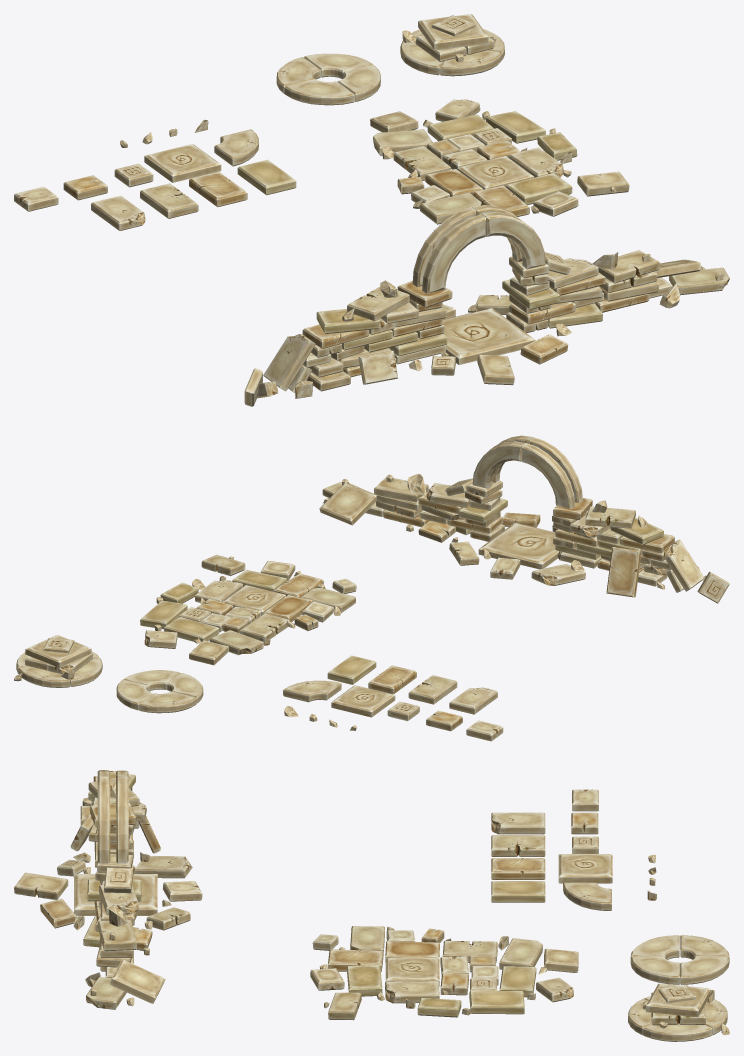
The model's file is doodad_brickspackage_mesh.fbx.
3 renders of one model, top to bottom at view 1: azimuth 30°, elevation 25°; view 2: azimuth 150°, elevation 25°; view 3: azimuth 270°, elevation 25°, orthographic. The views are drawn at different scales.
Visible parts, largest first — view 1: doodad_brick_structure_gate_mesh, doodad_brick_structure_floor1_mesh, doodad_brick_structure_circle2_mesh, doodad_brick_structure_circle1_mesh, doodad_brick_component_square_large_mesh, doodad_brick_component_rect1_mesh, doodad_brick_component_rect3_mesh, doodad_brick_component_rect2_mesh, doodad_brick_component_rect4_mesh, doodad_brick_component_turn_mesh, doodad_brick_component_rect_half1_mesh, doodad_brick_component_rect_half2_mesh (+1 smaller); view 2: doodad_brick_structure_gate_mesh, doodad_brick_structure_floor1_mesh, doodad_brick_structure_circle2_mesh, doodad_brick_structure_circle1_mesh, doodad_brick_component_square_large_mesh, doodad_brick_component_turn_mesh, doodad_brick_component_rect1_mesh, doodad_brick_component_rect3_mesh, doodad_brick_component_rect2_mesh, doodad_brick_component_rect4_mesh, doodad_brick_component_rect_half2_mesh, doodad_brick_component_rect_half1_mesh; view 3: doodad_brick_structure_gate_mesh, doodad_brick_structure_floor1_mesh, doodad_brick_structure_circle2_mesh, doodad_brick_structure_circle1_mesh, doodad_brick_component_square_large_mesh, doodad_brick_component_rect4_mesh, doodad_brick_component_rect1_mesh, doodad_brick_component_rect2_mesh, doodad_brick_component_rect3_mesh, doodad_brick_component_turn_mesh, doodad_brick_component_rect_half1_mesh, doodad_brick_component_rect_half2_mesh (+1 smaller).
Part boxes in pixels (x1=…): doodad_brick_structure_gate_mesh: x1=244, y1=205, x2=729, y2=406; doodad_brick_structure_floor1_mesh: x1=370, y1=99, x2=629, y2=224; doodad_brick_structure_circle2_mesh: x1=400, y1=14, x2=504, y2=76; doodad_brick_structure_circle1_mesh: x1=276, y1=53, x2=380, y2=105; doodad_brick_component_square_large_mesh: x1=144, y1=144, x2=221, y2=182; doodad_brick_component_rect1_mesh: x1=237, y1=159, x2=296, y2=195; doodad_brick_component_rect3_mesh: x1=140, y1=183, x2=198, y2=218; doodad_brick_component_rect2_mesh: x1=189, y1=171, x2=247, y2=207; doodad_brick_component_rect4_mesh: x1=91, y1=195, x2=145, y2=230; doodad_brick_component_turn_mesh: x1=214, y1=129, x2=258, y2=166; doodad_brick_component_rect_half1_mesh: x1=63, y1=175, x2=107, y2=200; doodad_brick_component_rect_half2_mesh: x1=14, y1=186, x2=58, y2=211; doodad_brick_structure_gate_mesh: x1=319, y1=435, x2=729, y2=603; doodad_brick_structure_floor1_mesh: x1=140, y1=554, x2=356, y2=665; doodad_brick_structure_circle2_mesh: x1=14, y1=635, x2=102, y2=687; doodad_brick_structure_circle1_mesh: x1=116, y1=670, x2=203, y2=713; doodad_brick_component_square_large_mesh: x1=331, y1=685, x2=395, y2=717; doodad_brick_component_turn_mesh: x1=283, y1=680, x2=341, y2=702; doodad_brick_component_rect1_mesh: x1=327, y1=655, x2=376, y2=684; doodad_brick_component_rect3_mesh: x1=408, y1=675, x2=457, y2=704; doodad_brick_component_rect2_mesh: x1=368, y1=665, x2=416, y2=694; doodad_brick_component_rect4_mesh: x1=449, y1=687, x2=497, y2=714; doodad_brick_component_rect_half2_mesh: x1=466, y1=720, x2=503, y2=741; doodad_brick_component_rect_half1_mesh: x1=426, y1=710, x2=462, y2=731; doodad_brick_structure_gate_mesh: x1=14, y1=770, x2=202, y2=1009; doodad_brick_structure_floor1_mesh: x1=310, y1=926, x2=578, y2=1020; doodad_brick_structure_circle2_mesh: x1=628, y1=983, x2=729, y2=1041; doodad_brick_structure_circle1_mesh: x1=630, y1=935, x2=729, y2=984; doodad_brick_component_square_large_mesh: x1=558, y1=854, x2=612, y2=883; doodad_brick_component_rect4_mesh: x1=491, y1=812, x2=545, y2=834; doodad_brick_component_rect1_mesh: x1=491, y1=881, x2=545, y2=902; doodad_brick_component_rect2_mesh: x1=491, y1=858, x2=545, y2=879; doodad_brick_component_rect3_mesh: x1=491, y1=835, x2=545, y2=856; doodad_brick_component_turn_mesh: x1=563, y1=882, x2=611, y2=910; doodad_brick_component_rect_half1_mesh: x1=571, y1=812, x2=598, y2=834; doodad_brick_component_rect_half2_mesh: x1=572, y1=789, x2=598, y2=811.
Bounding box in the file's own units: 22.6 × 5.43 × 26.53.
1 material, 1 textured.
